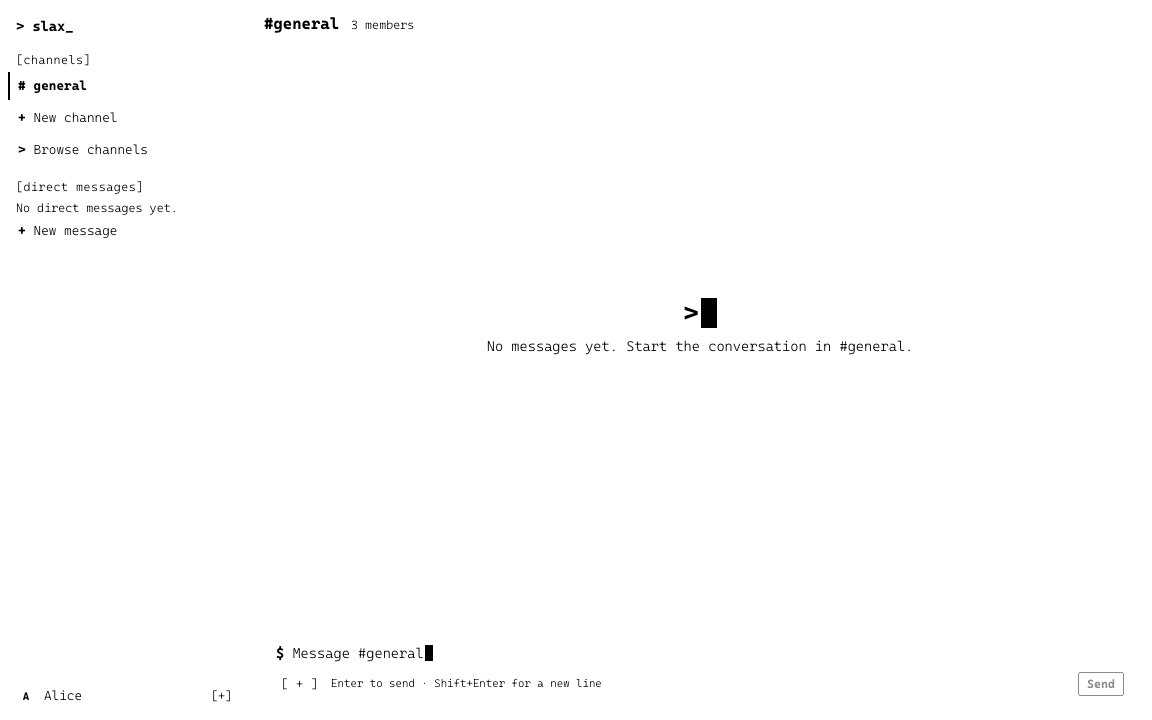
Scenario: channels › says the server's reason for a refused name, and 'taken' only when it is taken
The image size is (1152, 720).
Click the button with class "nav-item--action" showing "+ New channel" at (124, 118), box [8,104,240,132]
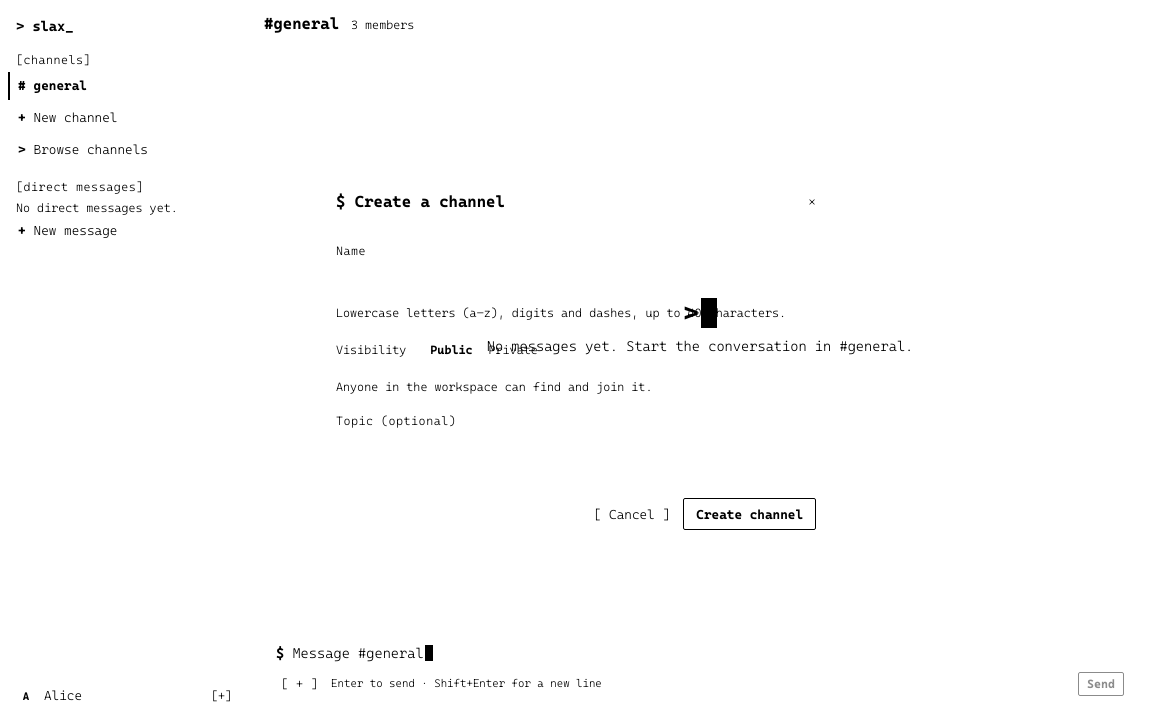
Type "ops" into the field labelled "Name" at (576, 282), box [336,264,816,300]
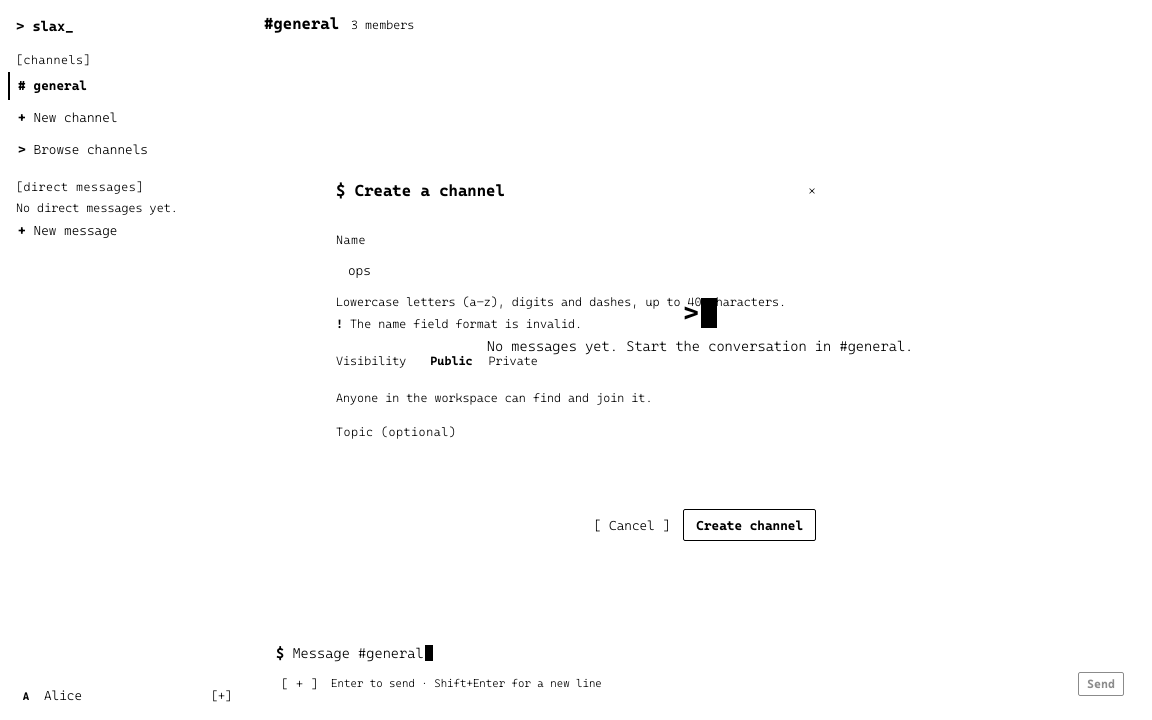
expect the text with class "field__error" reads "The name field format is invalid.": met, box [350,317,582,331]
Replace the text in the field labelled "Name" with "ops-2" at (576, 271), box [336,253,816,289]
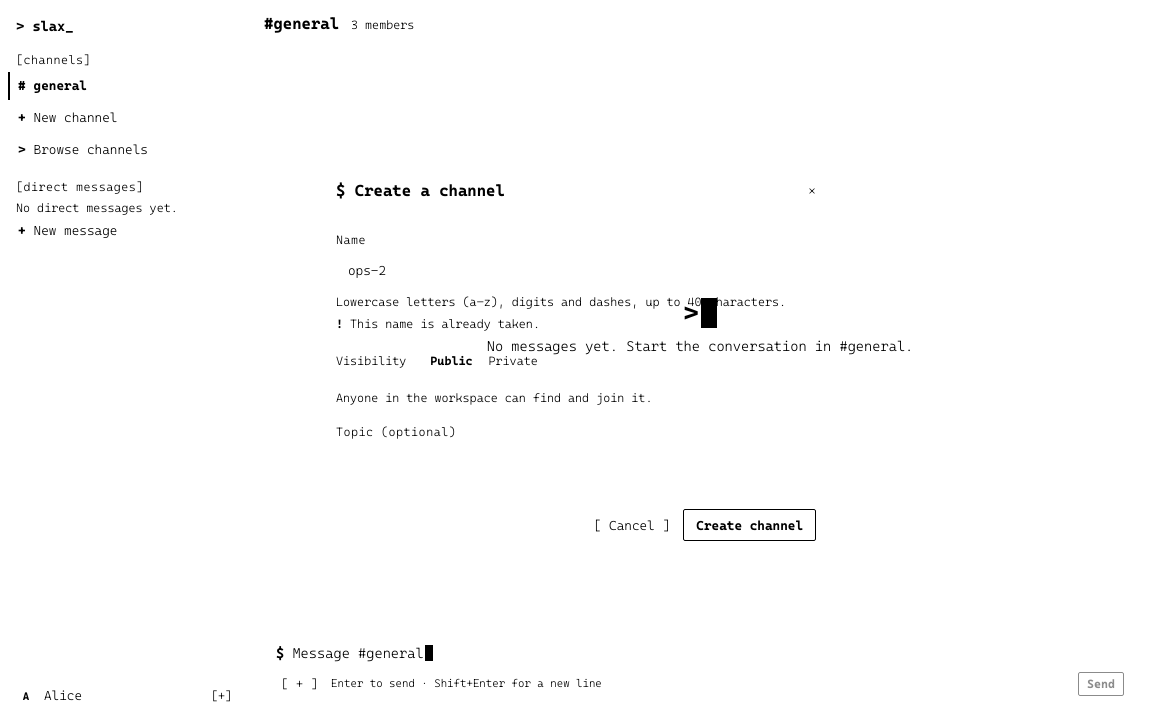
expect the text with class "field__error" reads "This name is already taken.": met, box [350,317,540,331]
